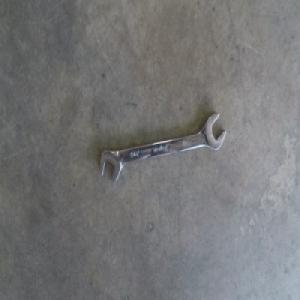Wrench: (98, 112, 228, 186)
